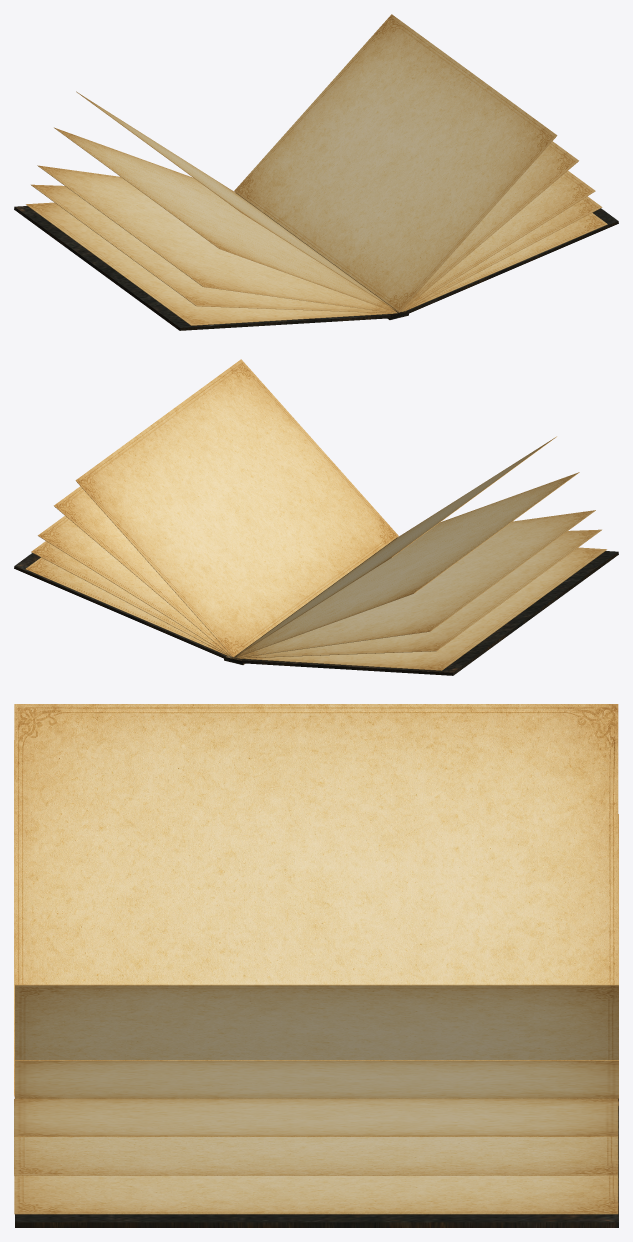
Rendered from Grimoriofbx.fbx.
3 renders of one model, top to bottom at view 1: azimuth 30°, elevation 25°; view 2: azimuth 150°, elevation 25°; view 3: azimuth 270°, elevation 25°, orthographic. The views are drawn at different scales.
Parts seen in each view (by area): view 1: Cube.009, Cube.006, Cube.007, Cube.005, Cube.004, Cube.010, Cube.011, Cube.014, Cube.008, Cube.012, Cube.013, Cube.015; view 2: Cube.009, Cube.006, Cube.007, Cube.005, Cube.004, Cube.010, Cube.011, Cube.014, Cube.008, Cube.013, Cube.012, Cube.015; view 3: Cube.008, Cube.009, Cube.013, Cube.010, Cube.011, Cube.012, Cube.015.
Boxes of the visible parts, x1,y1,x2,y2 form: Cube.009: [234, 14, 557, 312]; Cube.006: [37, 165, 396, 313]; Cube.007: [54, 127, 397, 313]; Cube.005: [31, 184, 394, 313]; Cube.004: [26, 202, 393, 325]; Cube.010: [400, 141, 578, 311]; Cube.011: [402, 171, 595, 311]; Cube.014: [14, 206, 390, 330]; Cube.008: [76, 91, 399, 312]; Cube.012: [403, 196, 602, 311]; Cube.013: [405, 213, 607, 311]; Cube.015: [406, 208, 618, 313]; Cube.009: [75, 359, 398, 657]; Cube.006: [237, 510, 595, 657]; Cube.007: [235, 472, 579, 657]; Cube.005: [237, 529, 601, 658]; Cube.004: [239, 547, 606, 670]; Cube.010: [54, 486, 232, 656]; Cube.011: [38, 516, 230, 656]; Cube.014: [242, 551, 618, 675]; Cube.008: [234, 436, 556, 657]; Cube.013: [25, 557, 228, 655]; Cube.012: [31, 541, 229, 656]; Cube.015: [14, 553, 226, 658]; Cube.008: [14, 704, 618, 1097]; Cube.009: [15, 984, 618, 1059]; Cube.013: [14, 1101, 618, 1214]; Cube.010: [15, 1060, 618, 1098]; Cube.011: [14, 1098, 617, 1136]; Cube.012: [14, 1137, 617, 1175]; Cube.015: [15, 1105, 618, 1227].
Bounding box in the file's own units: 410 × 128 × 268.
